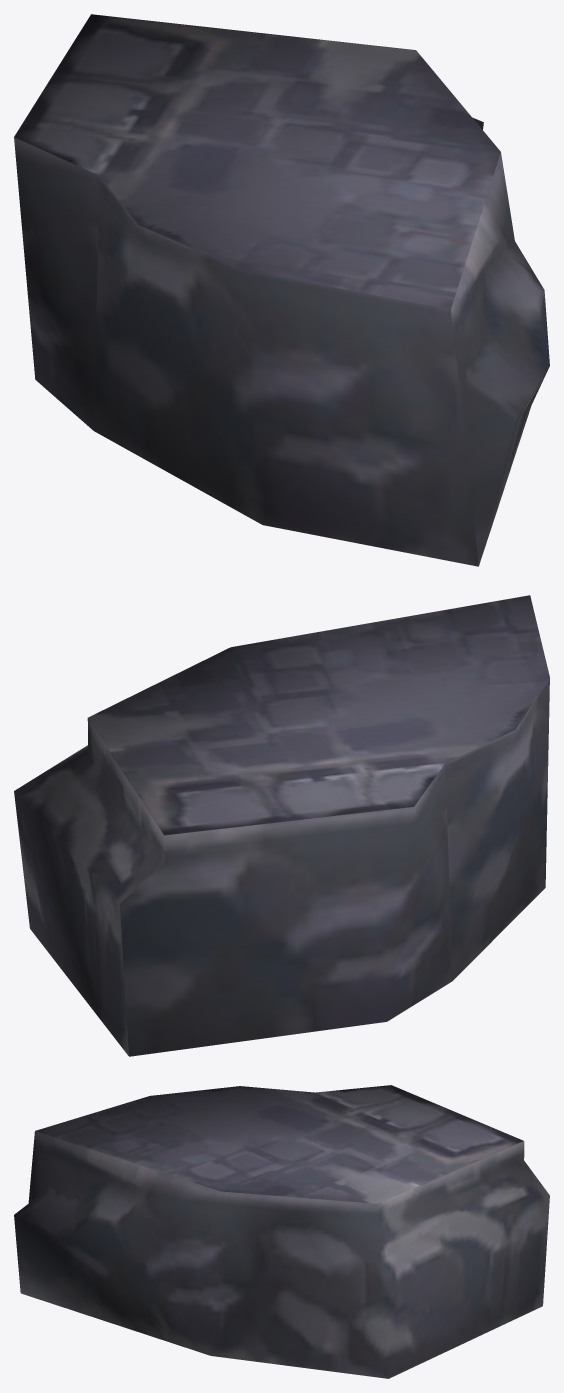
File: Beidaying_podunzi02.FBX
3 views of the same model, one above another, from view 1: azimuth 30°, elevation 25°; view 2: azimuth 150°, elevation 25°; view 3: azimuth 270°, elevation 25° (orthographic). The views are drawn at different scales.
Visible parts, largest first — view 1: Beidaying_podunzi02; view 2: Beidaying_podunzi02; view 3: Beidaying_podunzi02.
Boxes of the visible parts, <box> form: Beidaying_podunzi02: <box>14,14,549,566</box>; Beidaying_podunzi02: <box>14,595,549,1056</box>; Beidaying_podunzi02: <box>14,1085,549,1378</box>.
Bounding box in the file's own units: 123 × 196 × 63.51.
